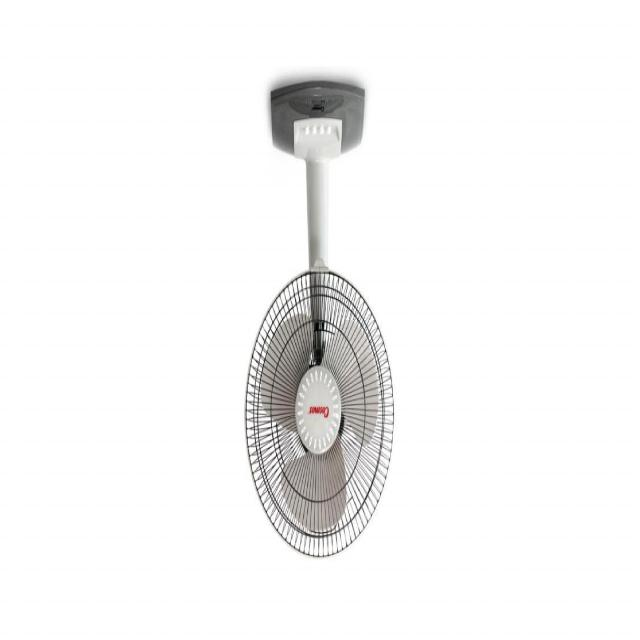fan: (245, 64, 394, 564)
